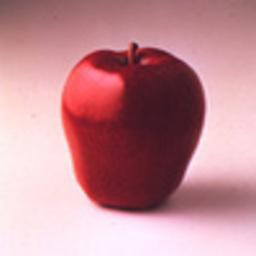apple: (58, 43, 208, 212)
